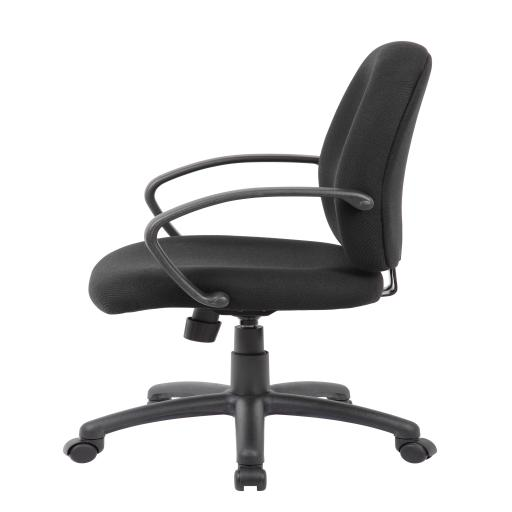chair: (63, 40, 437, 491)
